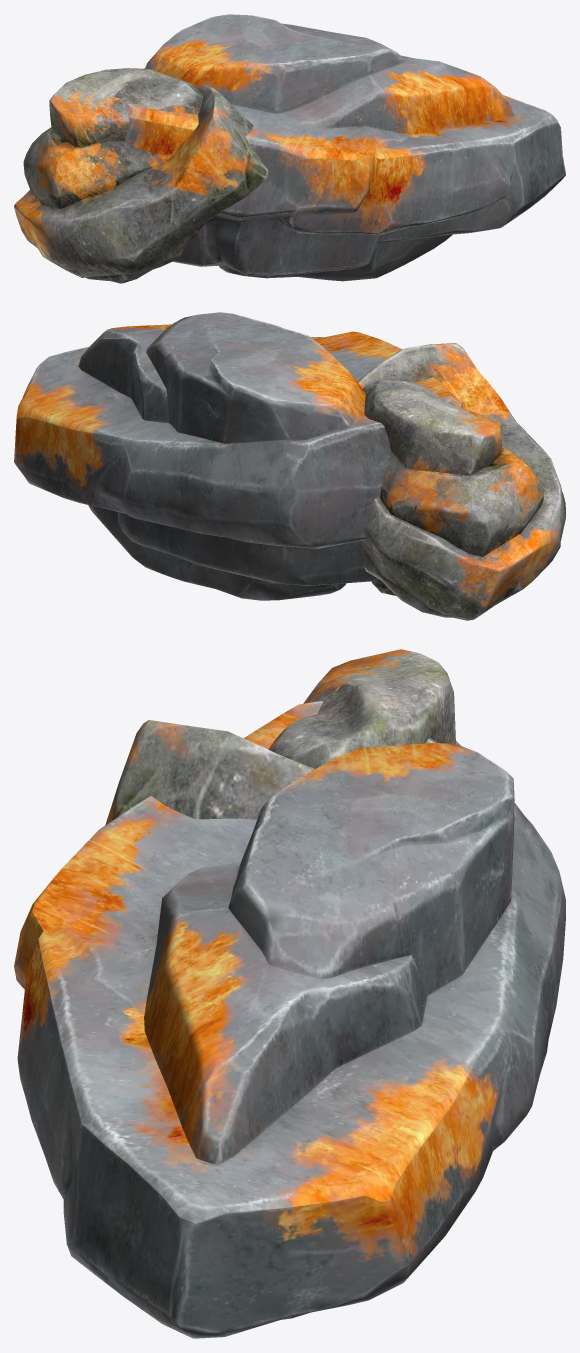
3 views of the same model, one above another, from view 1: azimuth 30°, elevation 25°; view 2: azimuth 150°, elevation 25°; view 3: azimuth 270°, elevation 25° (orthographic). The views are drawn at different scales.
Visible parts, largest first — view 1: SM_Mining_Node_Medium_B_LOD0; view 2: SM_Mining_Node_Medium_B_LOD0; view 3: SM_Mining_Node_Medium_B_LOD0.
Boxes of the visible parts, x1=… form: SM_Mining_Node_Medium_B_LOD0: x1=14, y1=14, x2=565, y2=283; SM_Mining_Node_Medium_B_LOD0: x1=14, y1=312, x2=565, y2=620; SM_Mining_Node_Medium_B_LOD0: x1=14, y1=649, x2=565, y2=1338.
Size of the model in its own units: 4.84 by 2.01 by 2.54.
2 materials, 2 textured.
